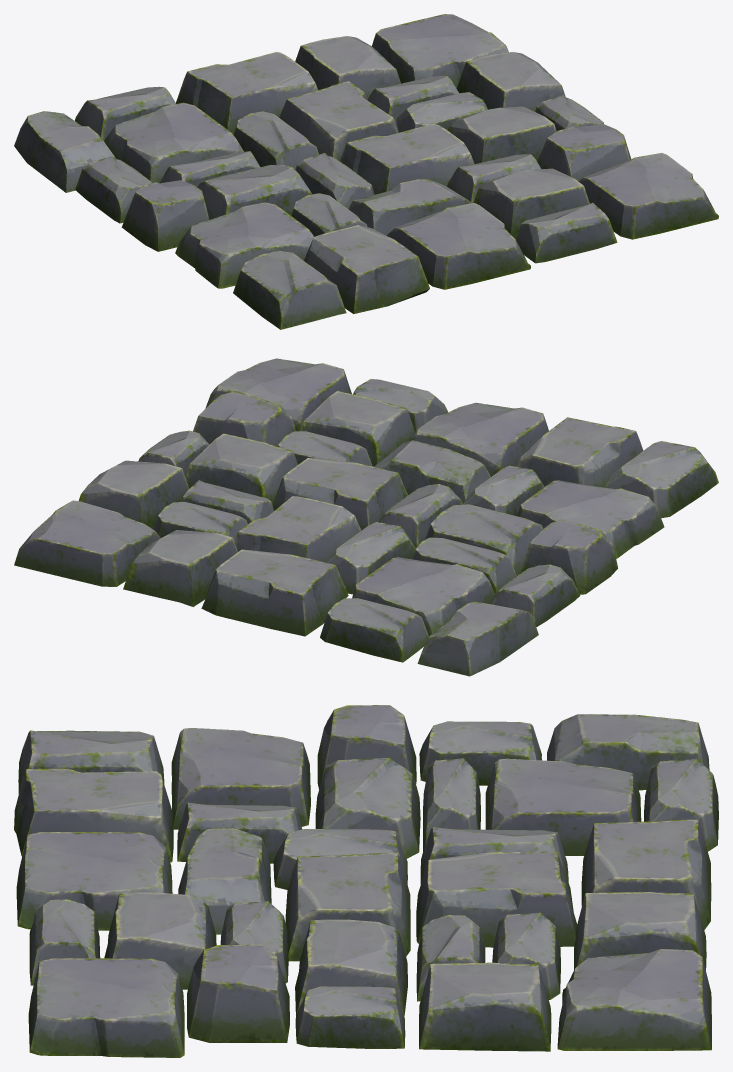
The model's file is jardin_camino_piedra2.obj.
The picture shows the model from 3 angles, top to bottom: view 1: azimuth 30°, elevation 25°; view 2: azimuth 150°, elevation 25°; view 3: azimuth 270°, elevation 25°; orthographic projection. The views are drawn at different scales.
Visible parts, largest first — view 1: jardin_camino_piedra2; view 2: jardin_camino_piedra2; view 3: jardin_camino_piedra2.
Part boxes in pixels (box(x1,y1,x2,y2)): jardin_camino_piedra2: box(14, 14, 718, 329); jardin_camino_piedra2: box(14, 358, 718, 676); jardin_camino_piedra2: box(14, 705, 718, 1057).
Bounding box in the file's own units: 2.05 × 0.1763 × 1.99.
